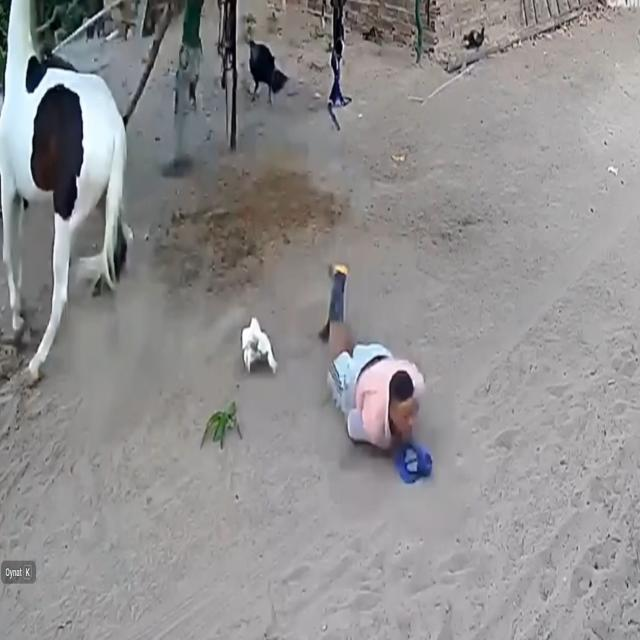fallen: (319, 264, 424, 455)
